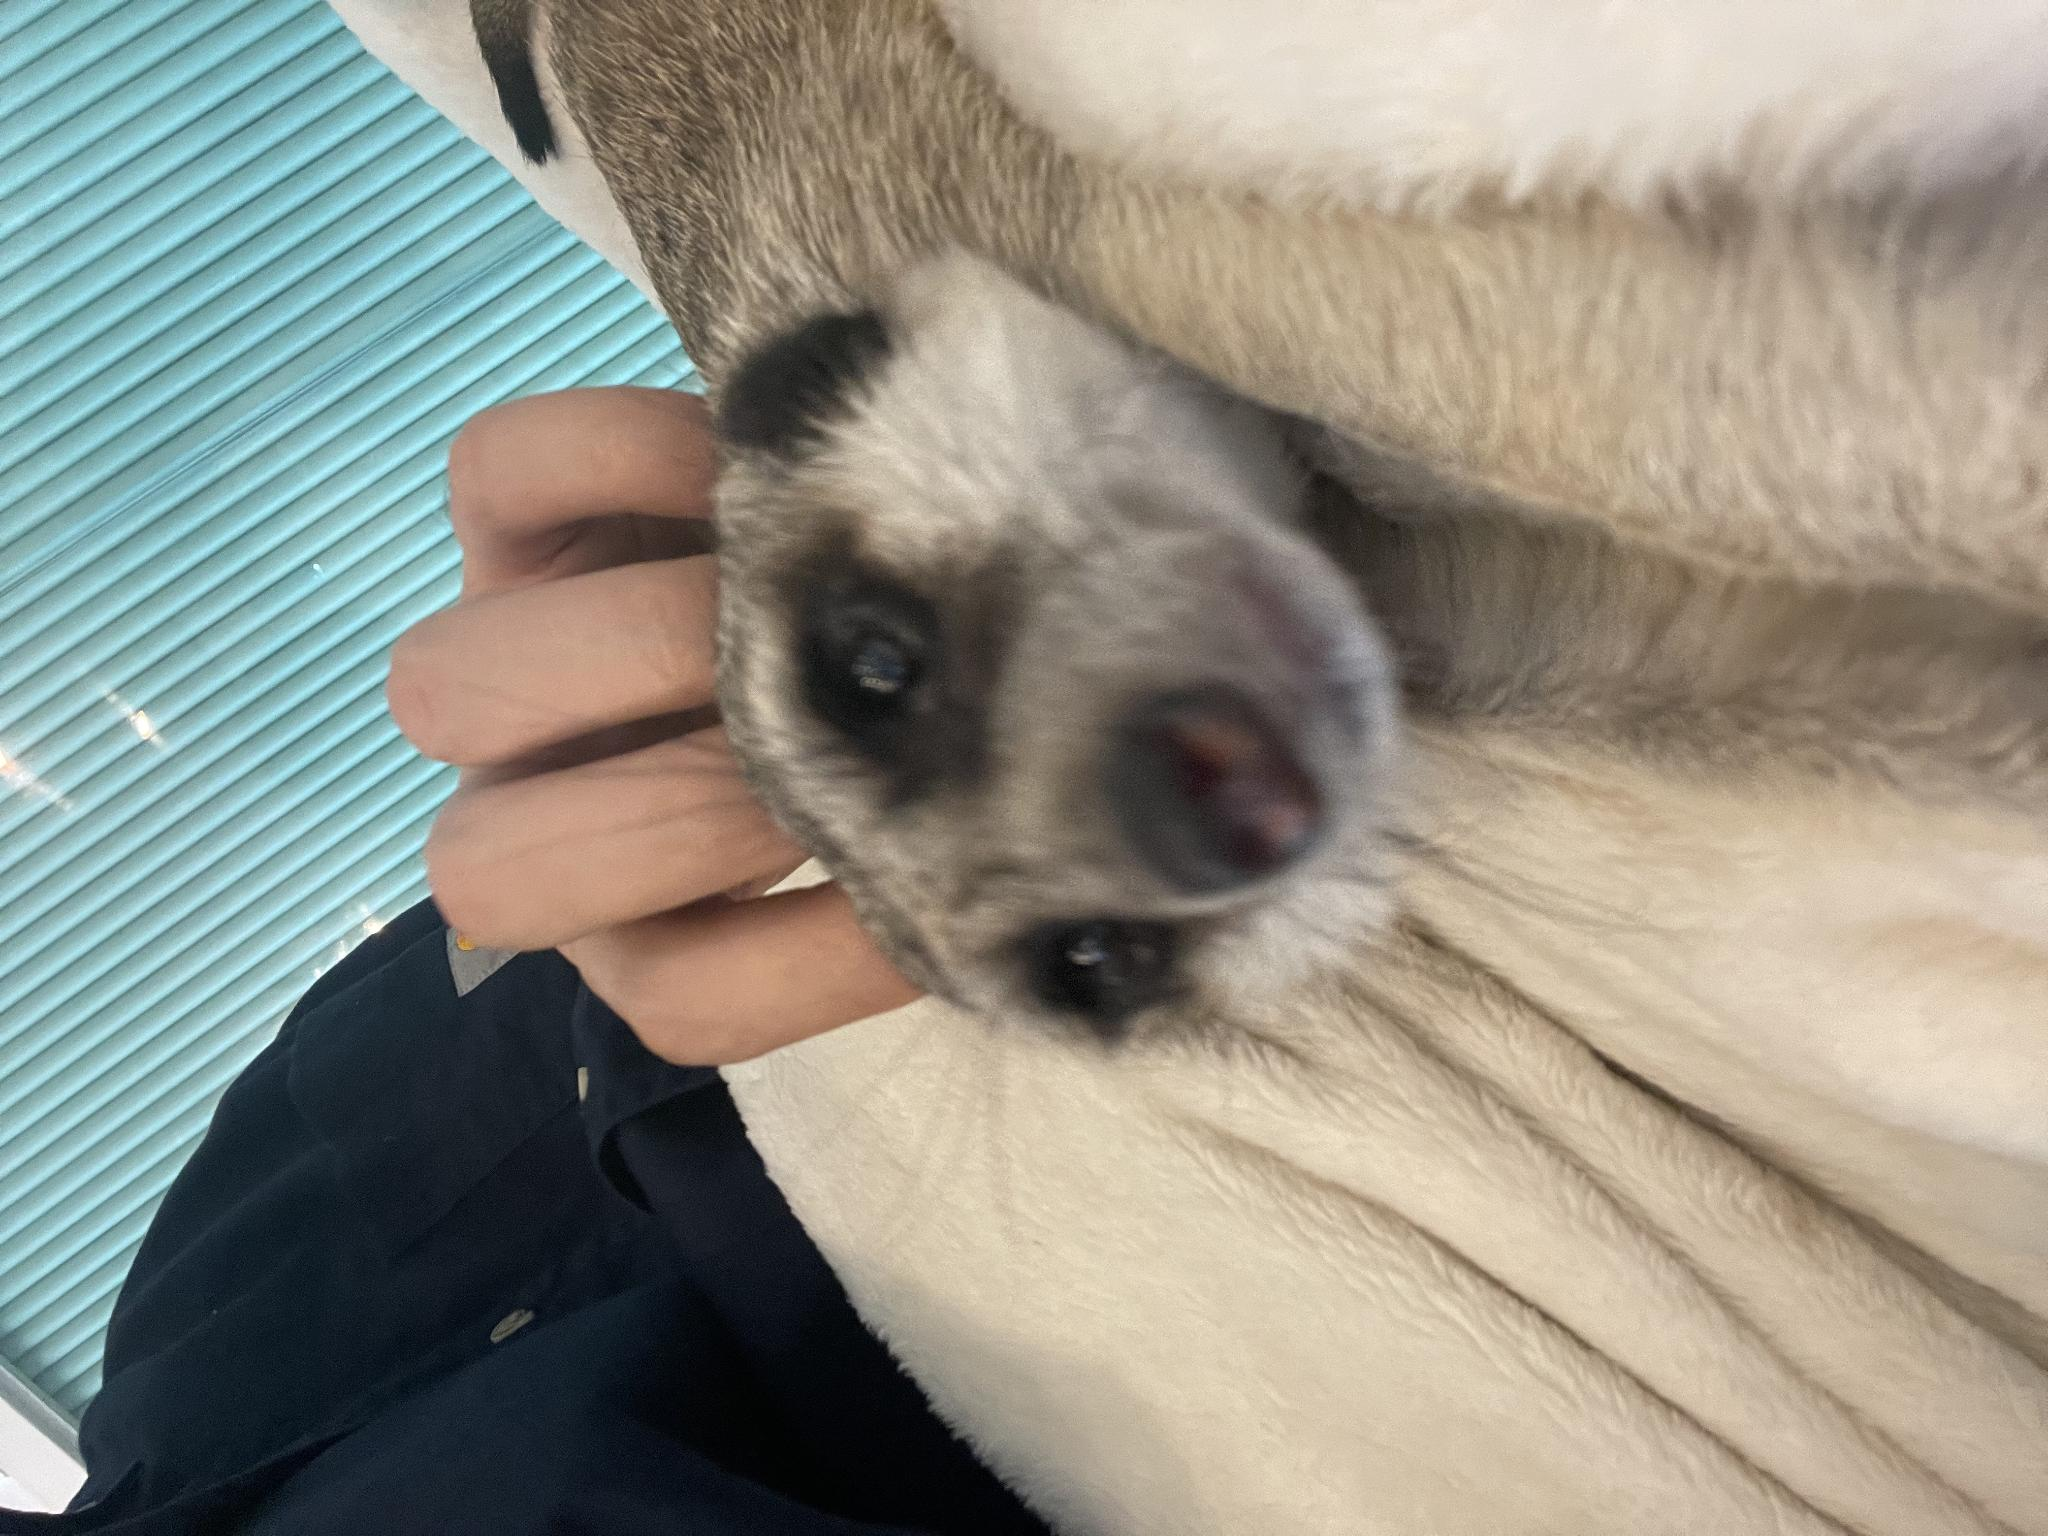meerkat: (2, 2, 1722, 1534)
